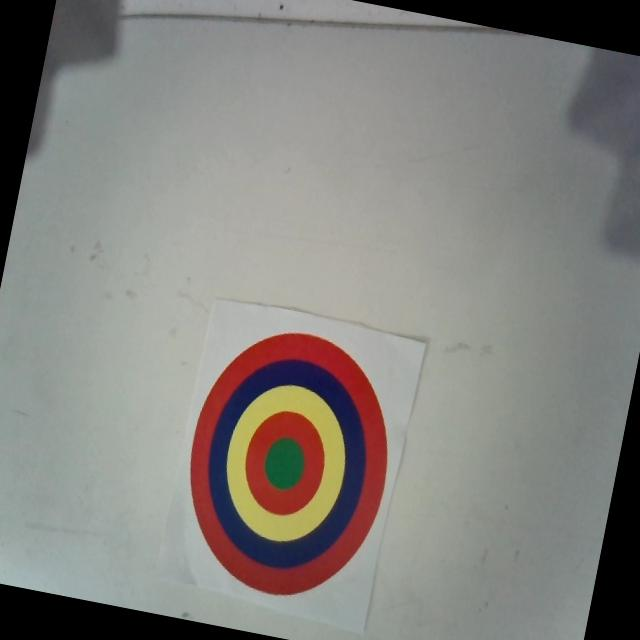cogn: (166, 314, 412, 612)
